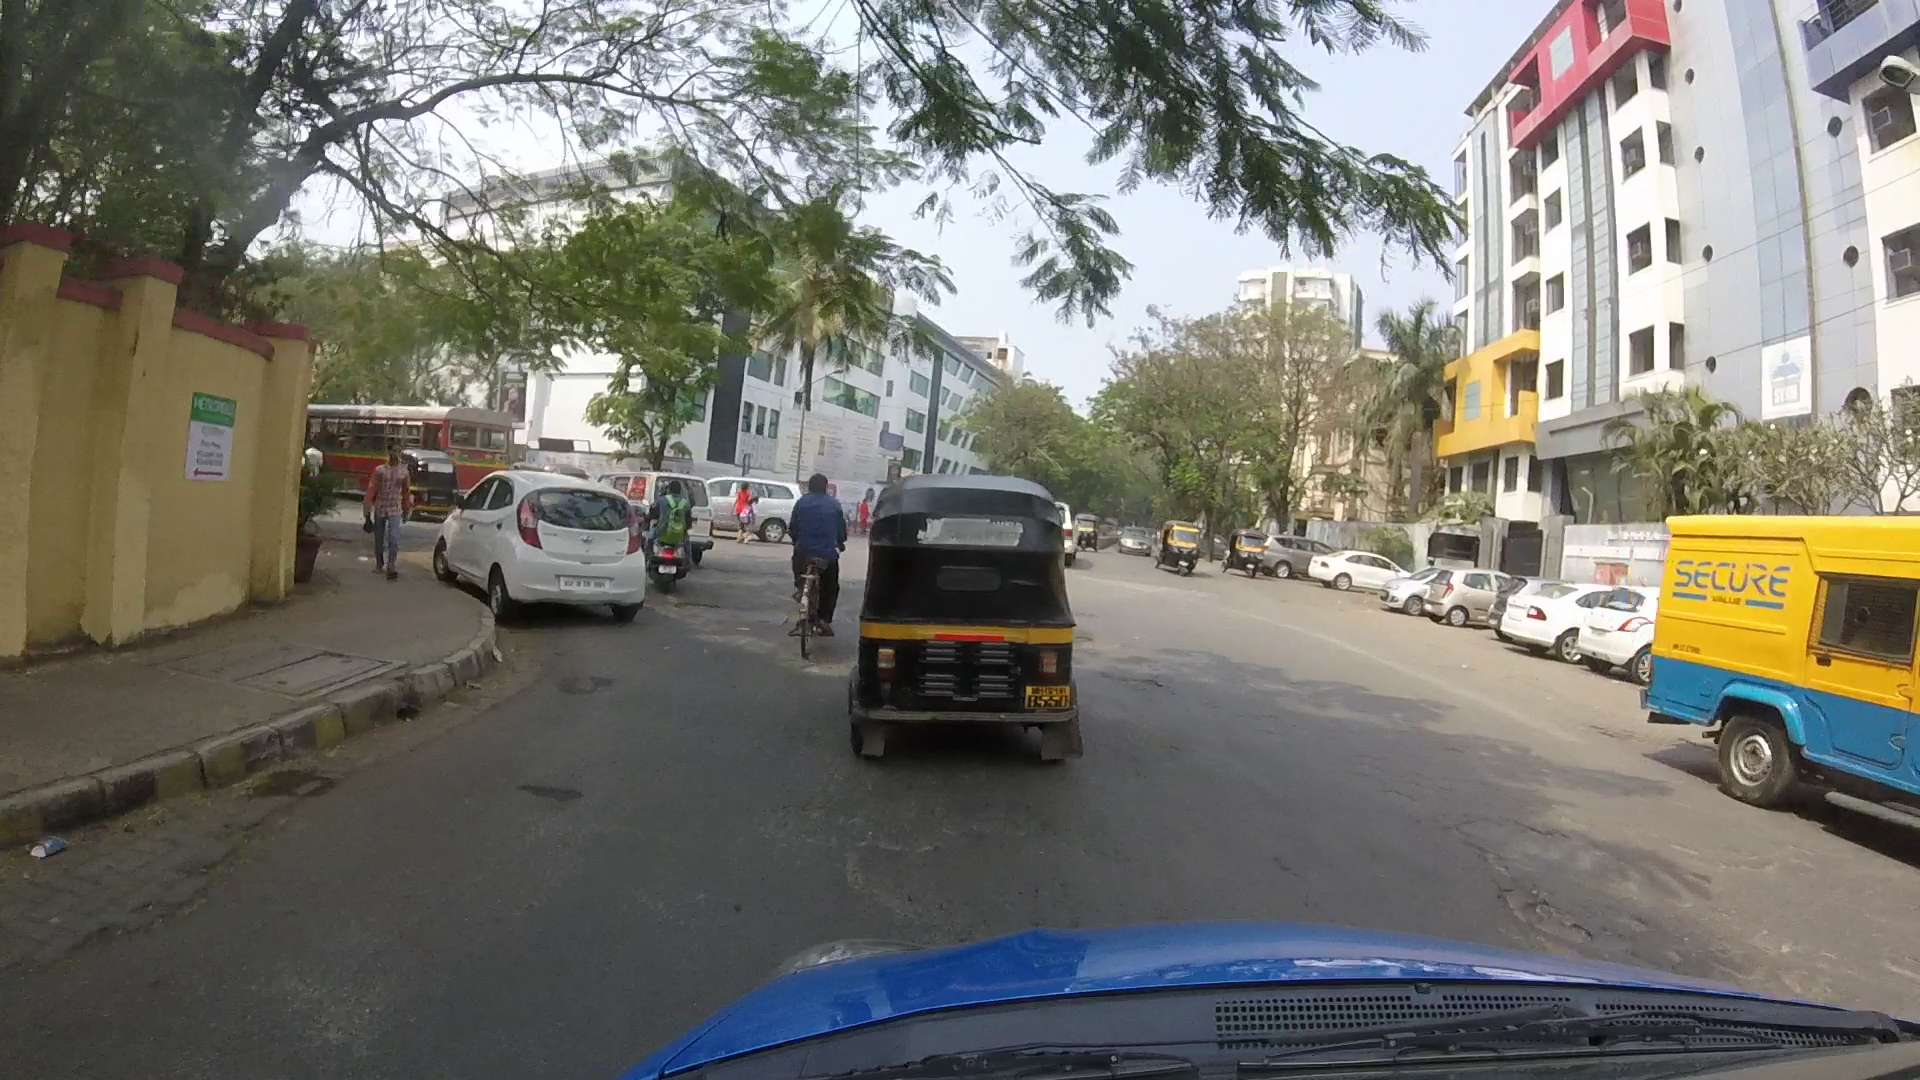bike/scooter: (651, 483, 696, 597)
bus: (309, 396, 513, 524)
car: (429, 472, 651, 624), (1502, 572, 1606, 663), (1578, 583, 1659, 680), (711, 473, 802, 539), (1299, 549, 1414, 595), (1431, 564, 1493, 626), (1273, 538, 1331, 576), (1116, 520, 1149, 556)
rickshaw: (849, 471, 1081, 771), (1146, 513, 1211, 583), (1226, 527, 1269, 580)
